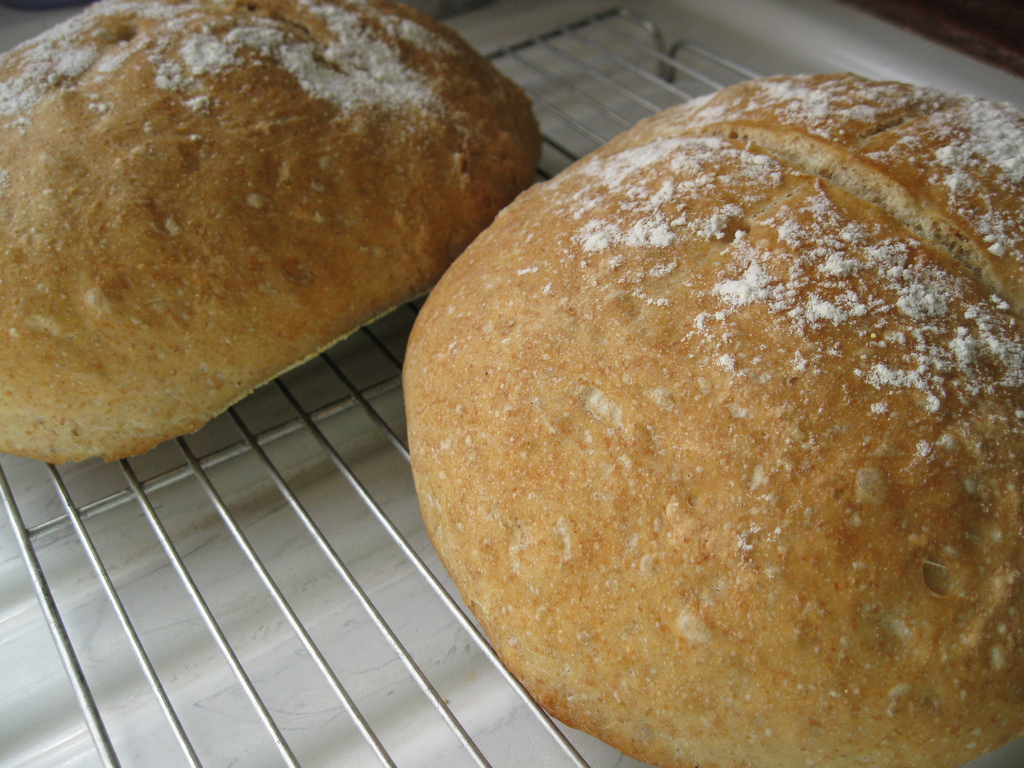slice of bread: (440, 94, 1024, 756), (9, 8, 546, 459)
